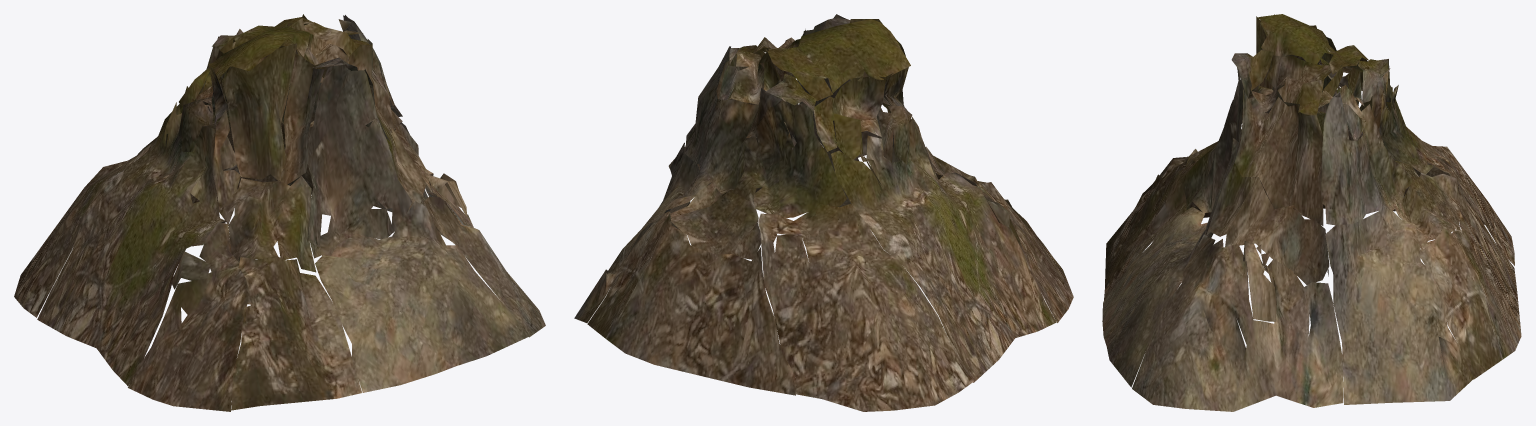
File: seat_stump.glb
The picture shows the model from 3 angles, left to right: view 1: azimuth 30°, elevation 25°; view 2: azimuth 150°, elevation 25°; view 3: azimuth 270°, elevation 25°; orthographic projection. The views are drawn at different scales.
Visible parts, largest first — view 1: seat_stump; view 2: seat_stump; view 3: seat_stump.
Boxes of the visible parts, x1,y1,x2,y2 form: seat_stump: (14,14,545,411); seat_stump: (574,14,1073,411); seat_stump: (1102,14,1521,411).
Size of the model in its own units: 0.75 by 0.53 by 0.7.
Materials: 1 (1 with a texture image).
